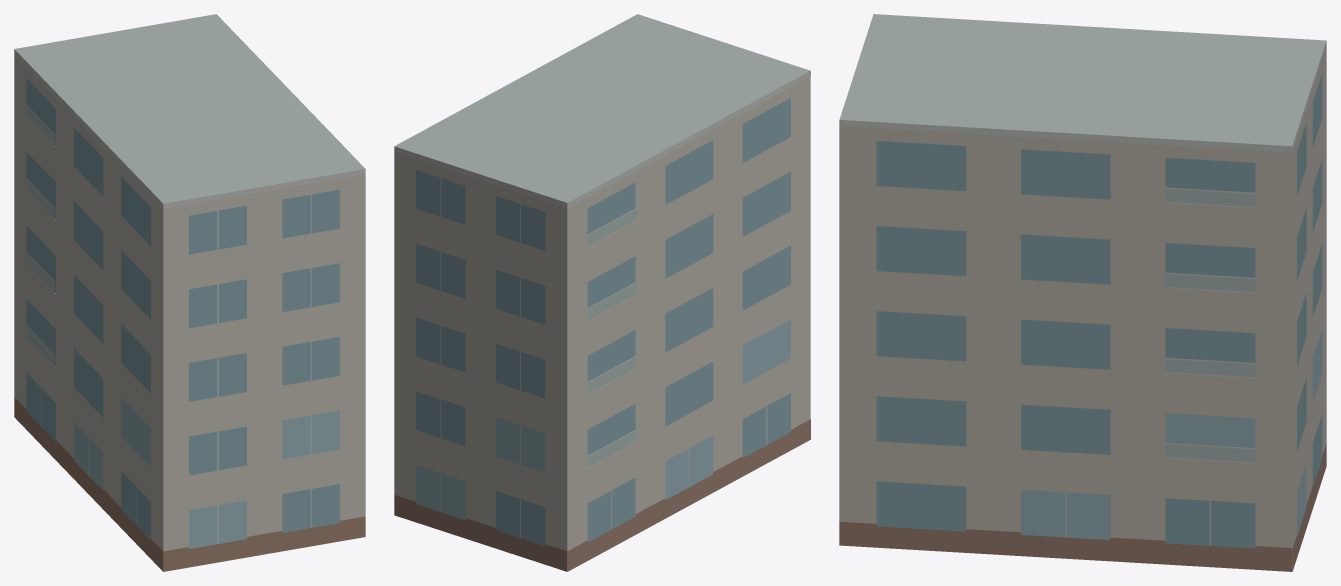
Rendered from survey-upis-32929643.glb.
3 renders of one model, left to right at view 1: azimuth 30°, elevation 25°; view 2: azimuth 150°, elevation 25°; view 3: azimuth 270°, elevation 25°, orthographic. The views are drawn at different scales.
Visible parts, largest first — view 1: survey-upis-32929643.tmp; view 2: survey-upis-32929643.tmp; view 3: survey-upis-32929643.tmp.
Boxes of the visible parts, x1,y1,x2,y2 form: survey-upis-32929643.tmp: (14, 14, 365, 571); survey-upis-32929643.tmp: (394, 14, 810, 571); survey-upis-32929643.tmp: (839, 14, 1326, 571).
Bounding box in the file's own units: 11.07 × 16.6 × 17.23.
